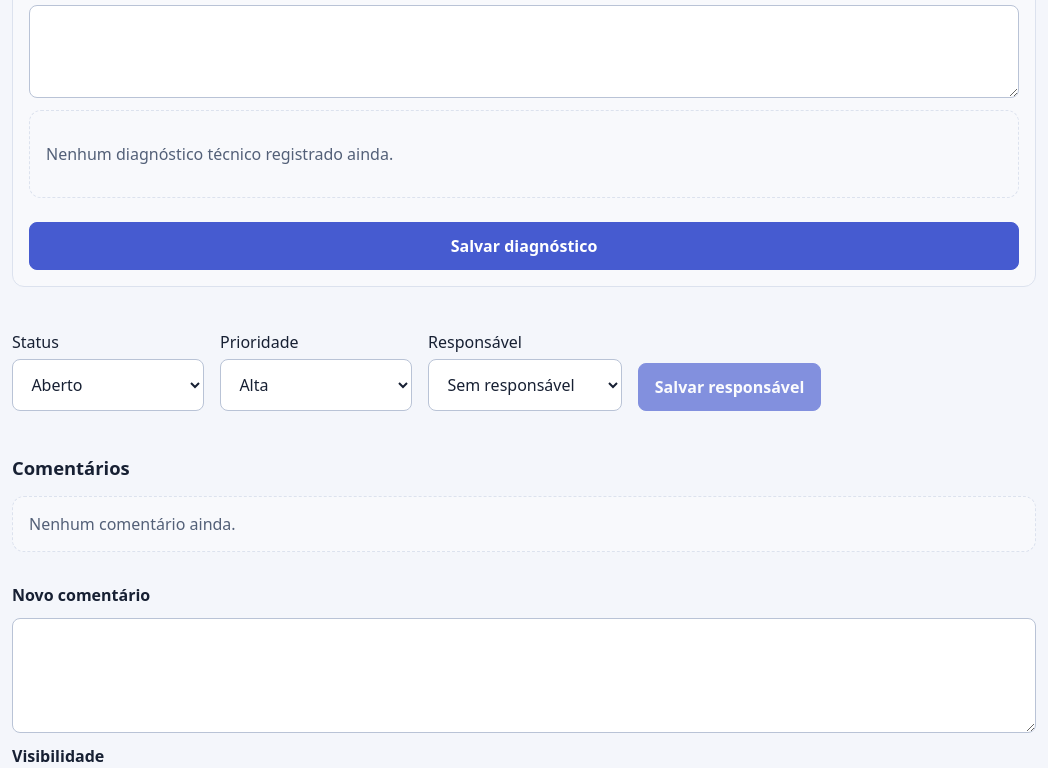
Test case: TicketDetailPage: integracao do detalhe › salva o responsavel escolhido e mostra toast de sucesso
(page scrolled)
Select "Agente Disponivel" in the dropdown labelled "Responsável" at (525,385), box left=428, top=359, right=622, bottom=410
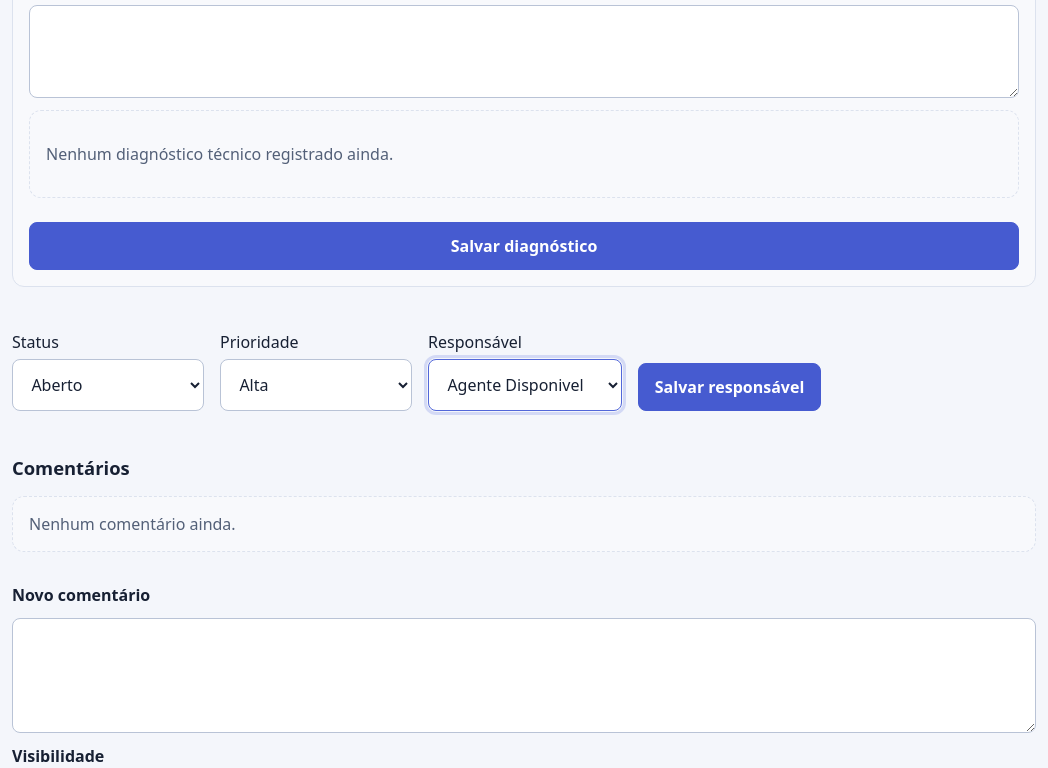
Click the button "Salvar responsável" at (730,386), box left=638, top=362, right=821, bottom=410
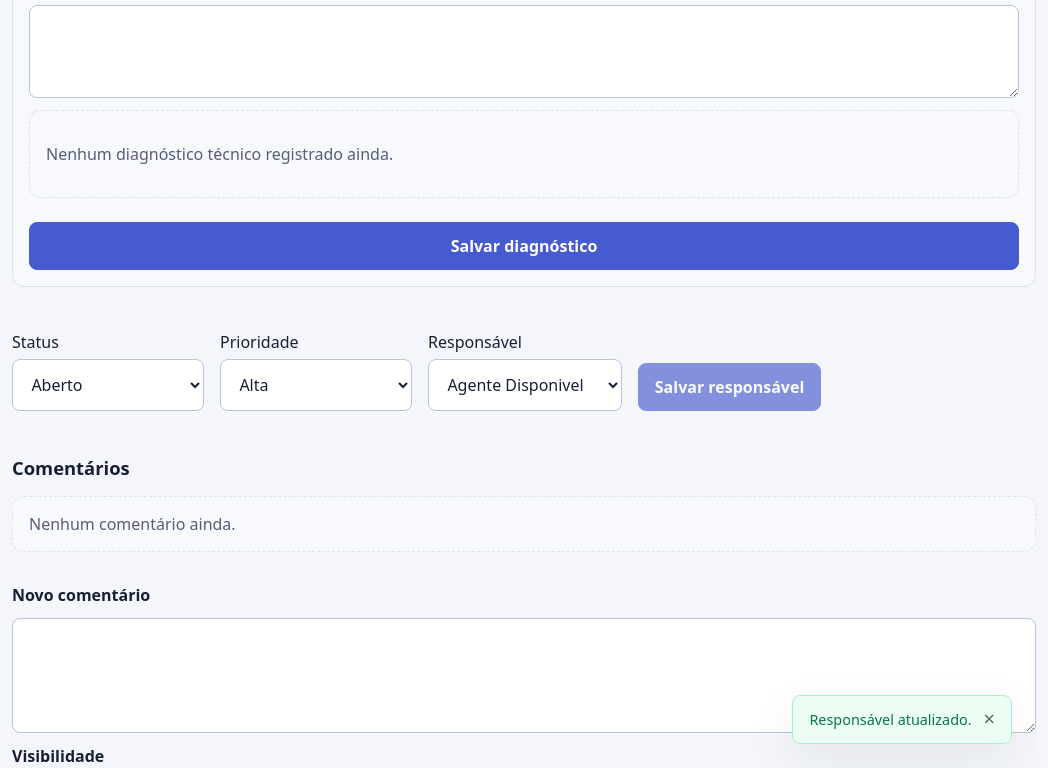
Now the text "Responsável atualizado." is shown, box left=809, top=710, right=972, bottom=729
